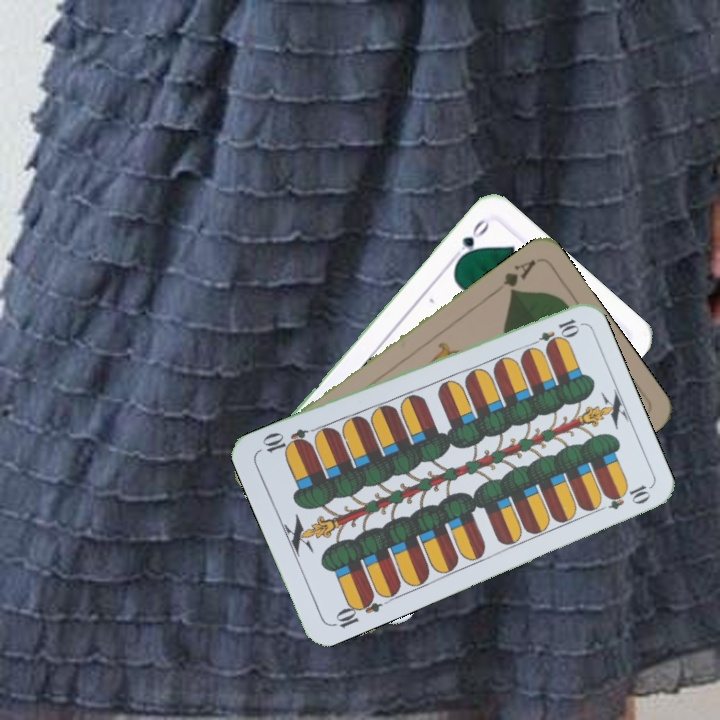E10: (328, 590, 384, 631), (525, 314, 582, 351)
GA: (489, 255, 539, 297)
GO: (448, 214, 493, 266)
